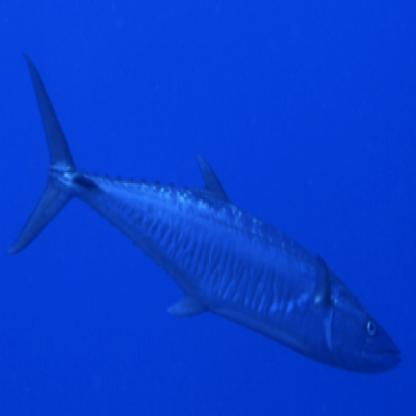tuna: (5, 52, 404, 380)
